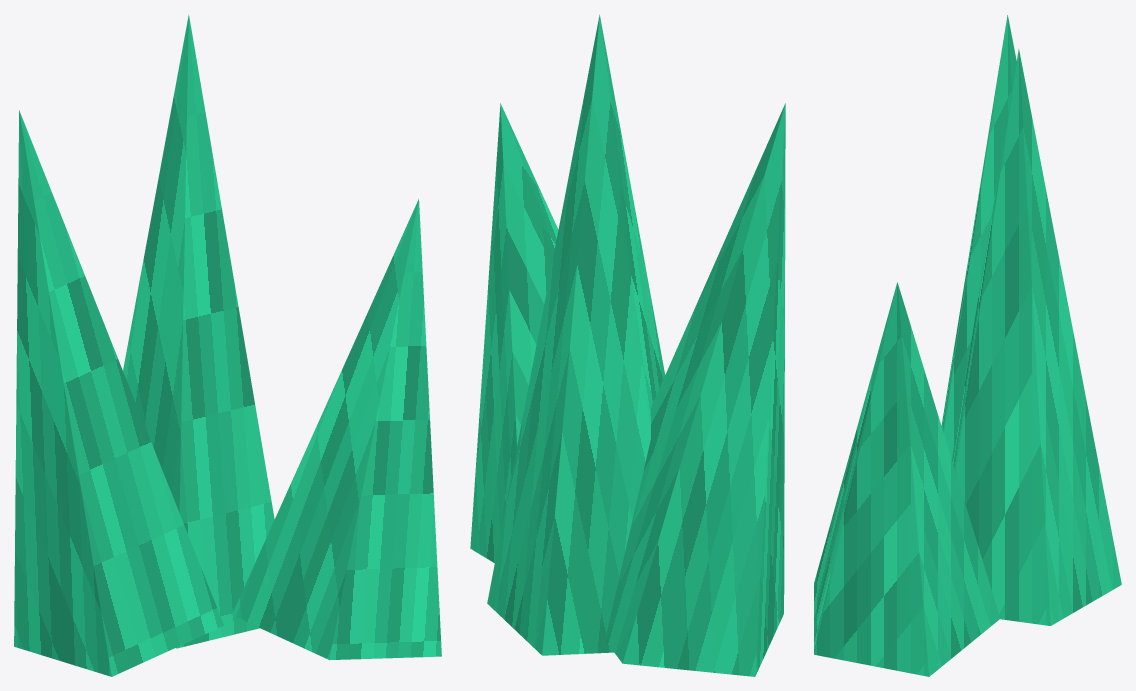
Rendered from crystal_16.glb.
3 views of the same model, side by side, from view 1: azimuth 30°, elevation 25°; view 2: azimuth 150°, elevation 25°; view 3: azimuth 270°, elevation 25° (orthographic). The views are drawn at different scales.
Visible parts, largest first — view 1: Jade, Jade.002, Jade.001; view 2: Jade, Jade.001, Jade.002; view 3: Jade.001, Jade.002, Jade.
Boxes of the visible parts, box(x1,y1,x2,y2) form: Jade: box(14, 110, 223, 676); Jade.002: box(232, 199, 441, 660); Jade.001: box(123, 14, 274, 648); Jade: box(605, 103, 785, 676); Jade.001: box(487, 14, 664, 655); Jade.002: box(470, 103, 558, 563); Jade.001: box(952, 49, 1121, 625); Jade.002: box(814, 282, 1000, 676); Jade: box(941, 15, 1016, 459).
Bounding box in the file's own units: 0.7926 × 1.3 × 0.6575.
Materials: 1 (1 with a texture image).
